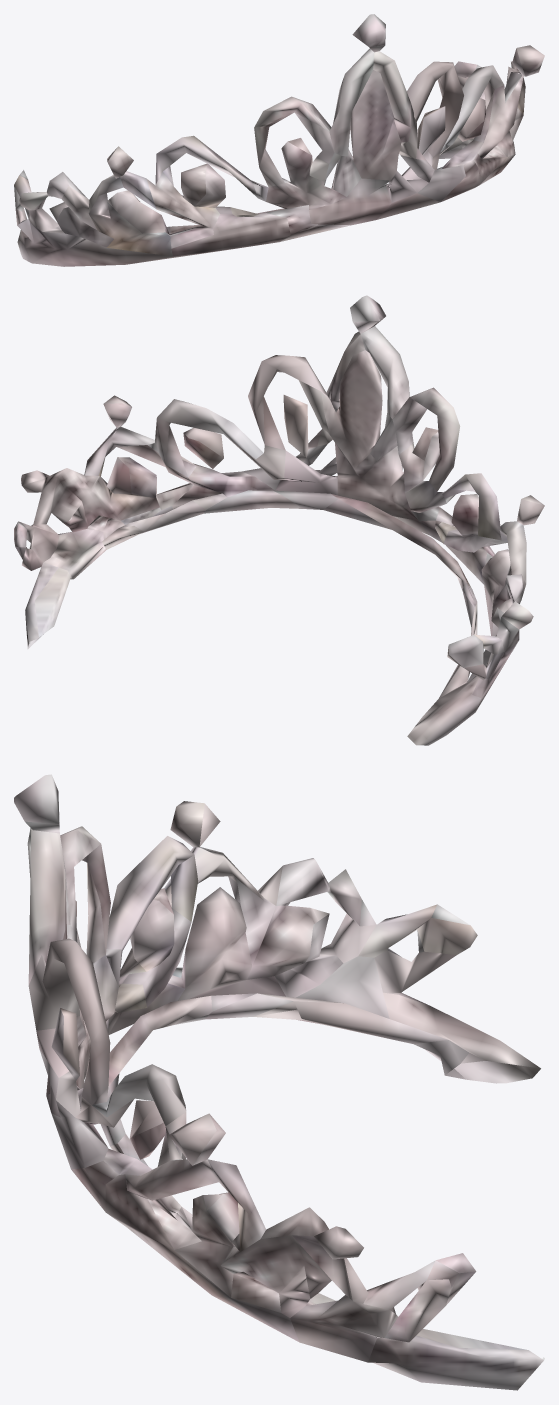
3 renders of one model, top to bottom at view 1: azimuth 30°, elevation 25°; view 2: azimuth 150°, elevation 25°; view 3: azimuth 270°, elevation 25°, orthographic. The views are drawn at different scales.
Visible parts, largest first — view 1: Silver-Tiara-13; view 2: Silver-Tiara-13; view 3: Silver-Tiara-13.
Part boxes in pixels (left/top/right/bottom): Silver-Tiara-13: left=14, top=14, right=544, bottom=266; Silver-Tiara-13: left=14, top=295, right=544, bottom=745; Silver-Tiara-13: left=14, top=774, right=544, bottom=1390.
Size of the model in its own units: 0.32 by 0.1759 by 0.1804.
Materials: 1 (1 with a texture image).
